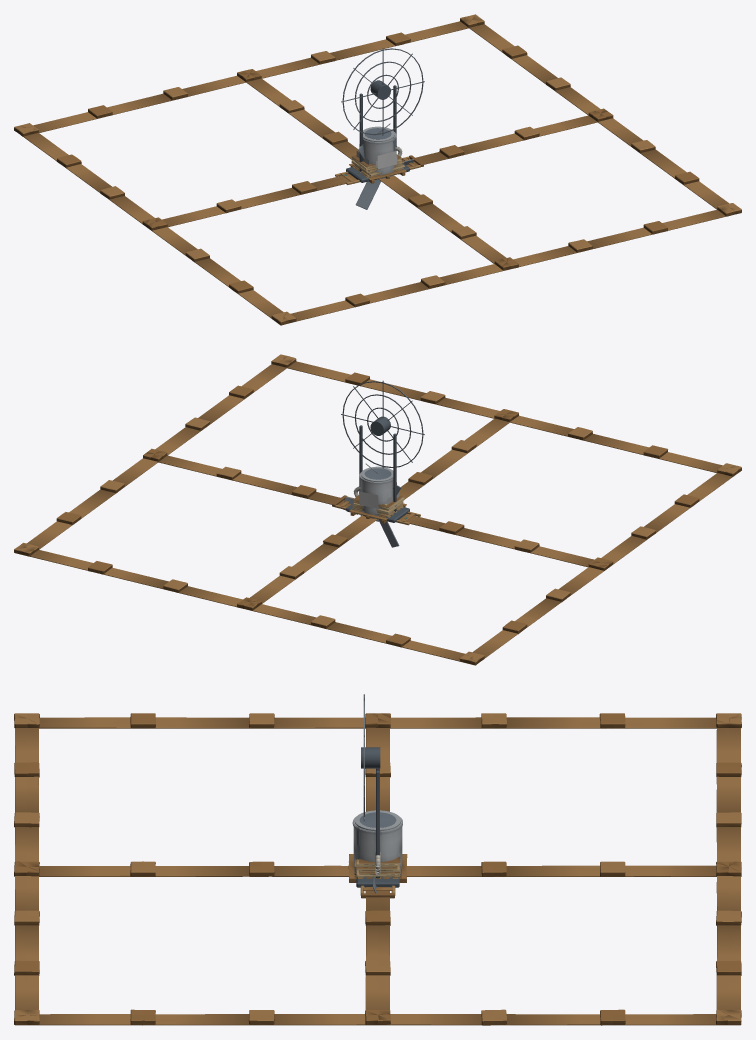
The model's file is props.glb.
The picture shows the model from 3 angles, top to bottom: view 1: azimuth 30°, elevation 25°; view 2: azimuth 150°, elevation 25°; view 3: azimuth 270°, elevation 25°; orthographic projection. The views are drawn at different scales.
Visible parts, largest first — view 1: castle_pallet, fan_body, paint_can; view 2: castle_pallet, fan_body, paint_can; view 3: castle_pallet, paint_can, fan_body, card_stack.
Boxes of the visible parts, left/top/right/bottom form: castle_pallet: left=14, top=14, right=741, bottom=325; fan_body: left=341, top=48, right=424, bottom=182; paint_can: left=359, top=123, right=396, bottom=178; castle_pallet: left=14, top=354, right=741, bottom=665; fan_body: left=341, top=380, right=424, bottom=522; paint_can: left=359, top=463, right=396, bottom=518; castle_pallet: left=14, top=713, right=741, bottom=1025; paint_can: left=352, top=810, right=402, bottom=875; fan_body: left=356, top=694, right=399, bottom=887; card_stack: left=354, top=856, right=400, bottom=877.
Bounding box in the file's own units: 15.04 × 5.01 × 15.04.
